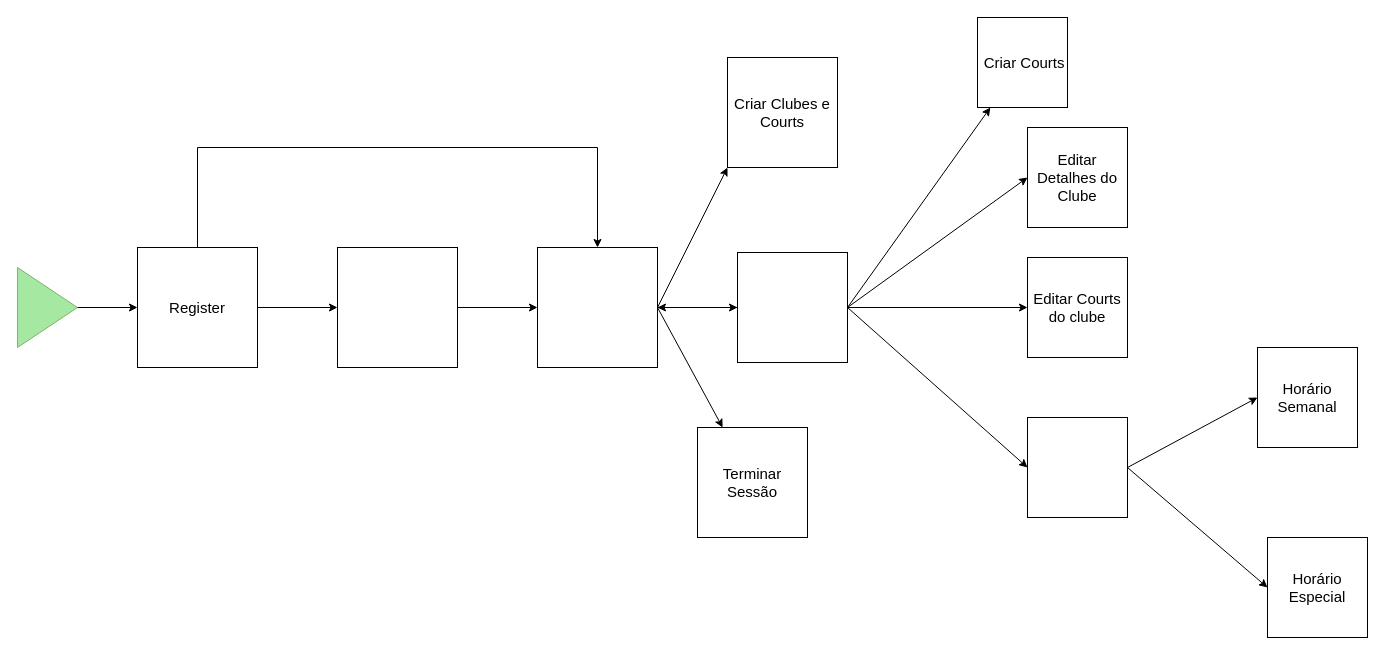
Image size: 1385x655. Some labels were removed from this diagram. The centre of each missing label's shape, as x and y in pixels:
Adicionar ou Editar horários do clube: the point at 1077,467
Editar Clubes (Lista de Clubes): the point at 792,307
Login: the point at 397,307
Página Inicial: the point at 597,307
